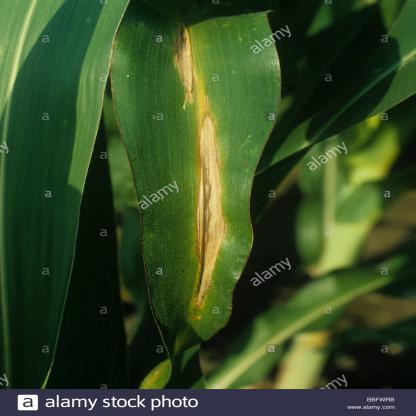Corn leaf blight: (111, 14, 276, 372)
